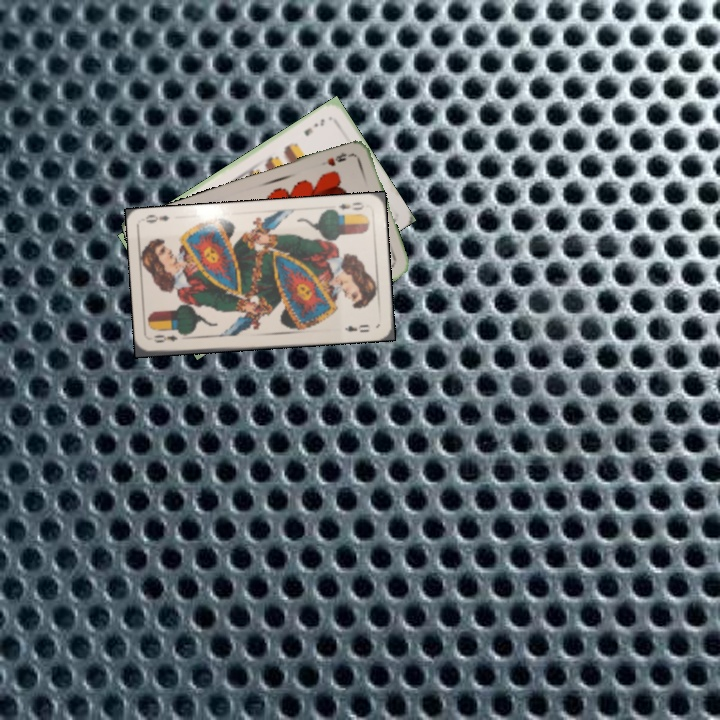E7: (300, 115, 327, 139)
EO: (329, 198, 366, 218), (150, 331, 180, 345)
H9: (317, 148, 355, 169)
